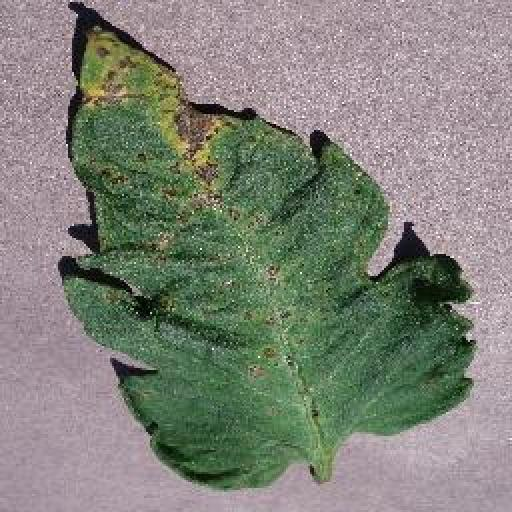disease_tomato: (56, 16, 479, 491)
